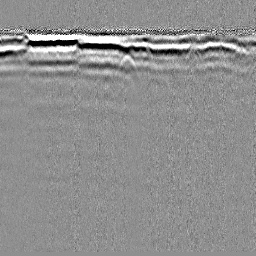cavity: (115, 52, 141, 82)
